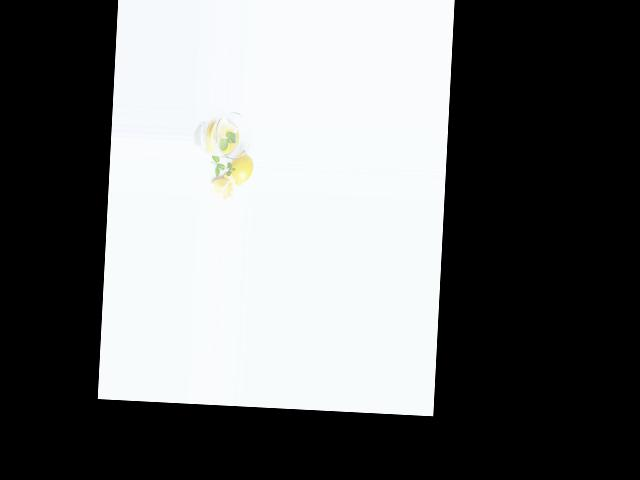lemon: (226, 146, 255, 185)
